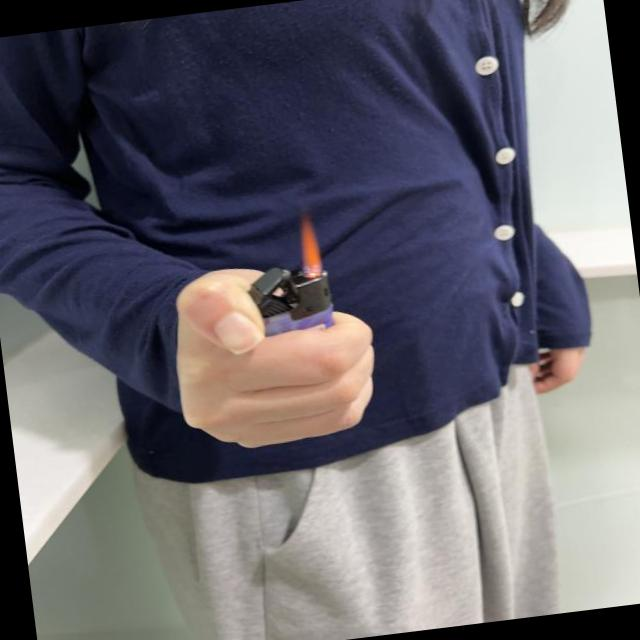Fire: (296, 215, 326, 278)
